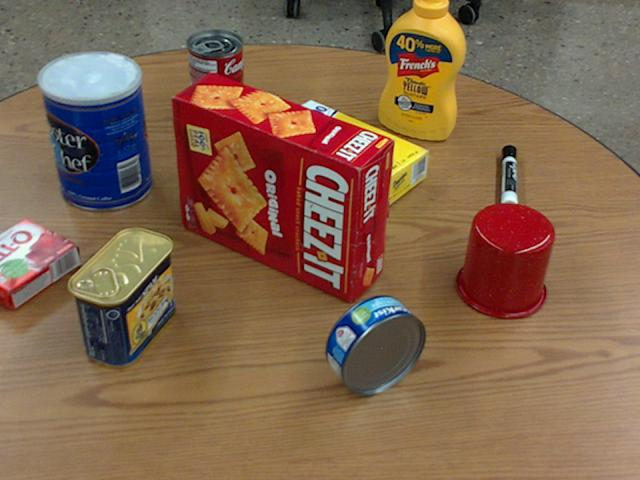cracker_box: (172, 73, 393, 302)
gelatin_box: (0, 218, 77, 307)
large_marker: (501, 145, 518, 212)
master_chef_can: (38, 52, 150, 211)
mug: (455, 202, 554, 318)
mustard_bottle: (379, 0, 465, 138)
potted_meat_can: (66, 226, 172, 366)
sugar_box: (264, 99, 428, 209)
tomato_soup_can: (186, 29, 244, 127)
tuna_fish_can: (326, 295, 425, 394)
